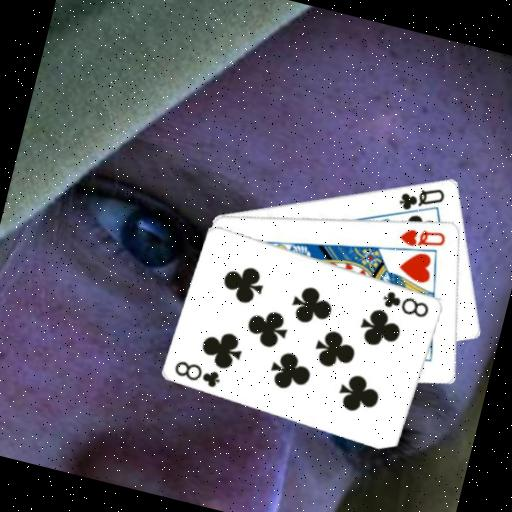8C: (169, 355, 225, 390), (378, 286, 433, 321)
QC: (394, 176, 449, 220)
QH: (395, 219, 450, 255)
